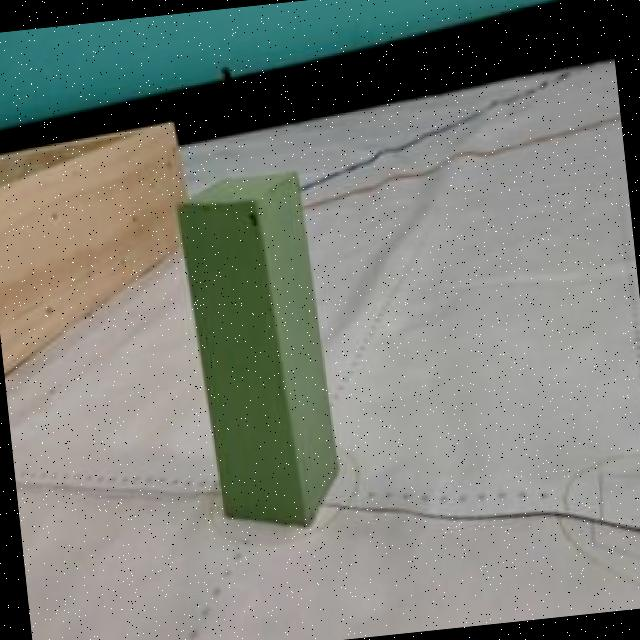greenbox: (171, 162, 346, 540)
